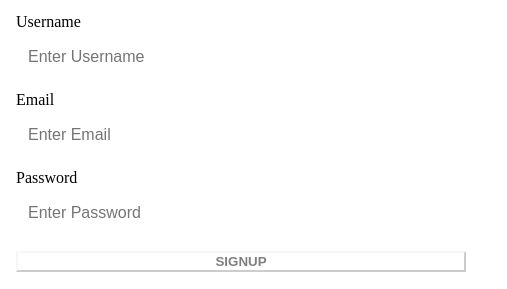
Test case: Register › Button › should be enabled with input values
The width and height of the screenshot is (507, 289).
Type "dawid" into the field labelled "Username" at (253, 57), box [16, 39, 490, 75]
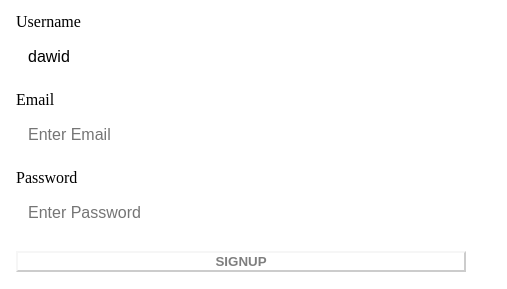
Type "dvds1987@gmail.com" into the field labelled "Email" at (253, 135), box [16, 117, 490, 153]
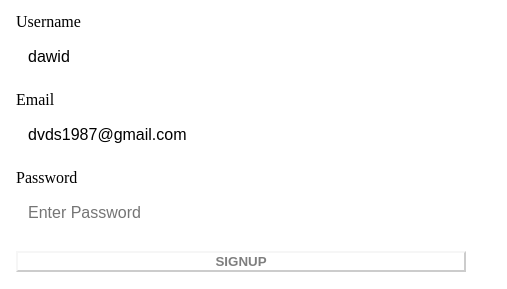
Type "qwerty" into the password field labelled "Password" at (253, 213), box [16, 195, 490, 231]
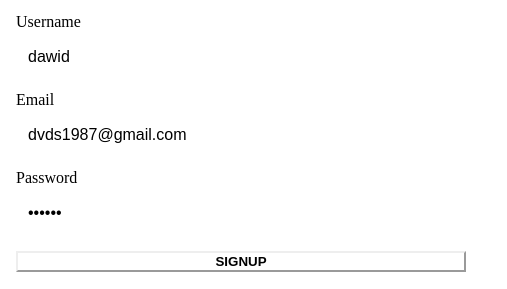
Expected: the button is enabled, [16, 251, 466, 272]
